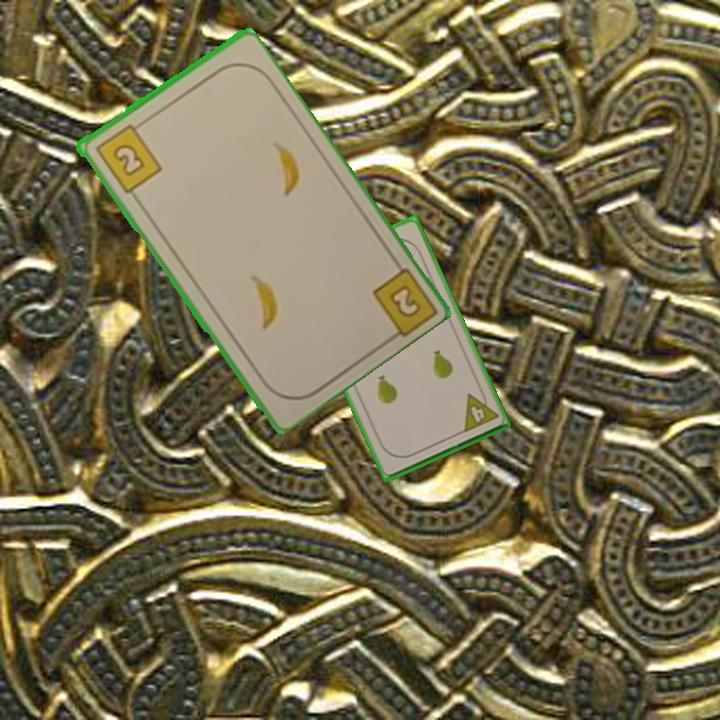2b: (91, 119, 165, 196), (385, 281, 424, 321)
4p: (459, 386, 501, 435)
